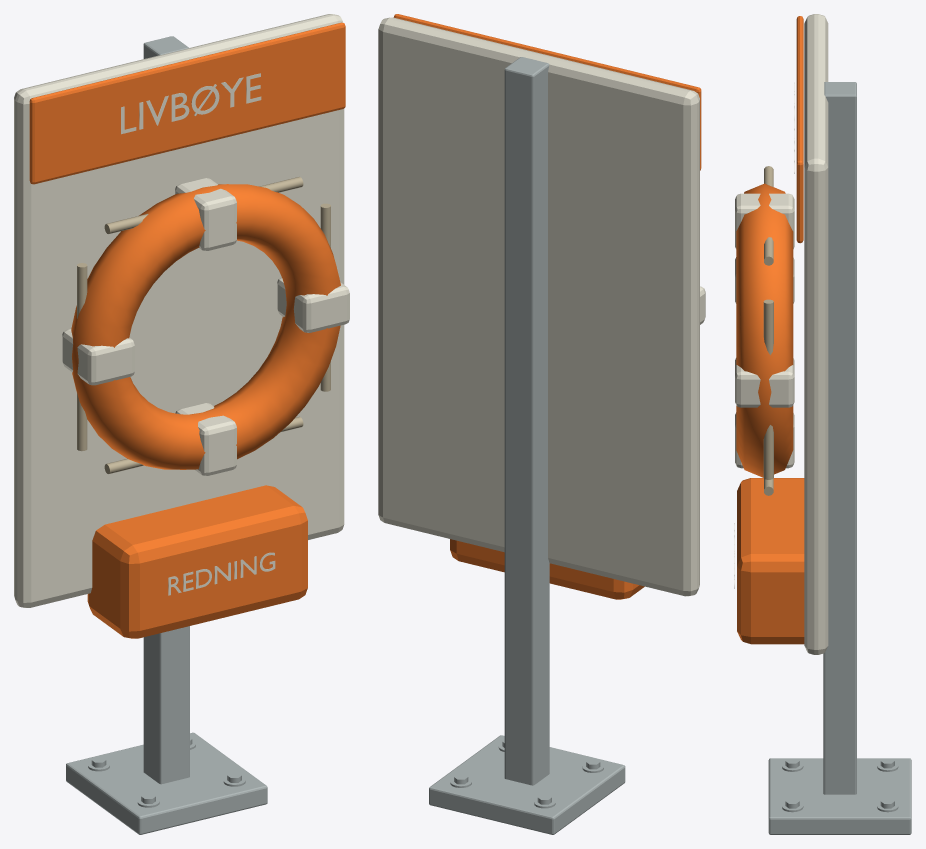
File: lifering_station.glb
3 views of the same model, side by side, from view 1: azimuth 30°, elevation 25°; view 2: azimuth 150°, elevation 25°; view 3: azimuth 270°, elevation 25° (orthographic). The views are drawn at different scales.
Visible parts, largest first — view 1: Structure; view 2: Structure; view 3: Structure.
Boxes of the visible parts, x1,y1,x2,y2 form: Structure: [14, 14, 349, 834]; Structure: [378, 14, 705, 834]; Structure: [734, 14, 911, 834].
Size of the model in its own units: 0.91 by 2 by 0.4465.
